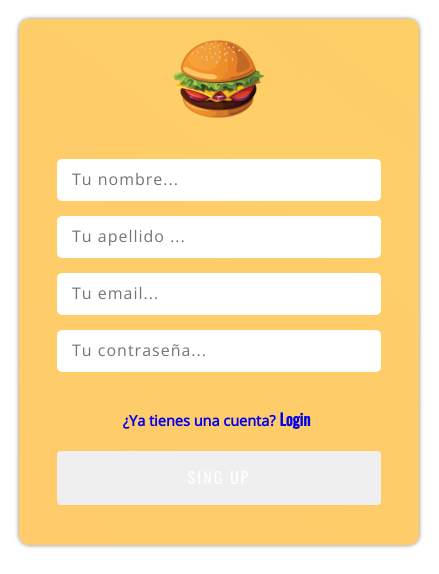
Test: form validations › diplay email  error when input  is left empty after focus
The image size is (439, 574).
In the field with test id "emailInput": (219, 294) [57,273,381,315], type "wrongemail@email"
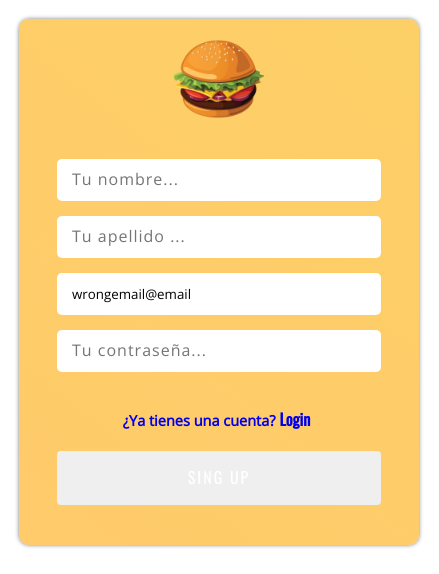
Leave the field with test id "emailInput", box [57,273,381,315]
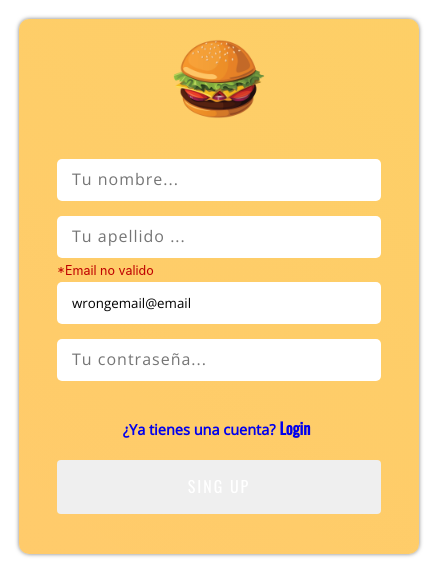
Now the text "*Email no valido" is shown, box [57,263,154,278]
Replace the text in the field with test id "emailInput" with "correctemailexample@gmail.com": (219, 303) [57,282,381,324]
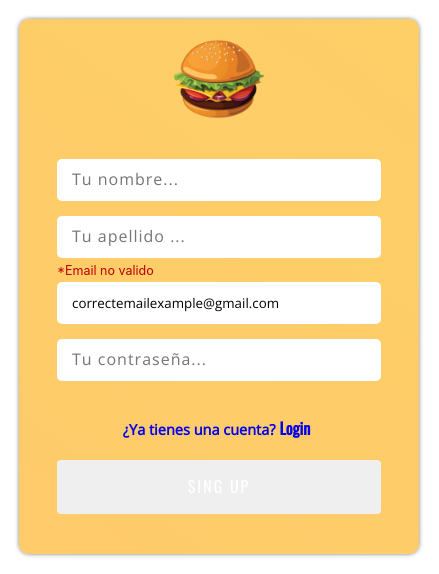
Leave the field with test id "emailInput", box [57,282,381,324]
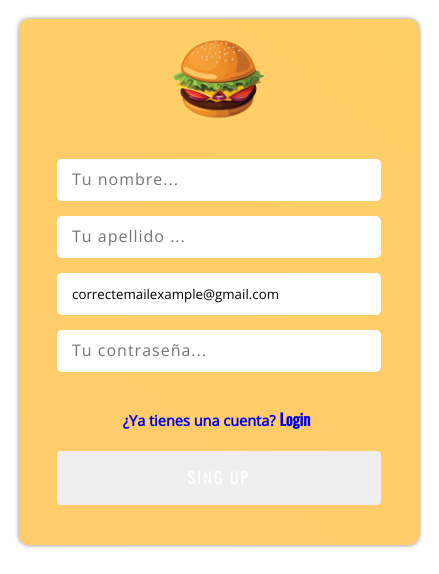
Now the text "*Email no valido" is gone
